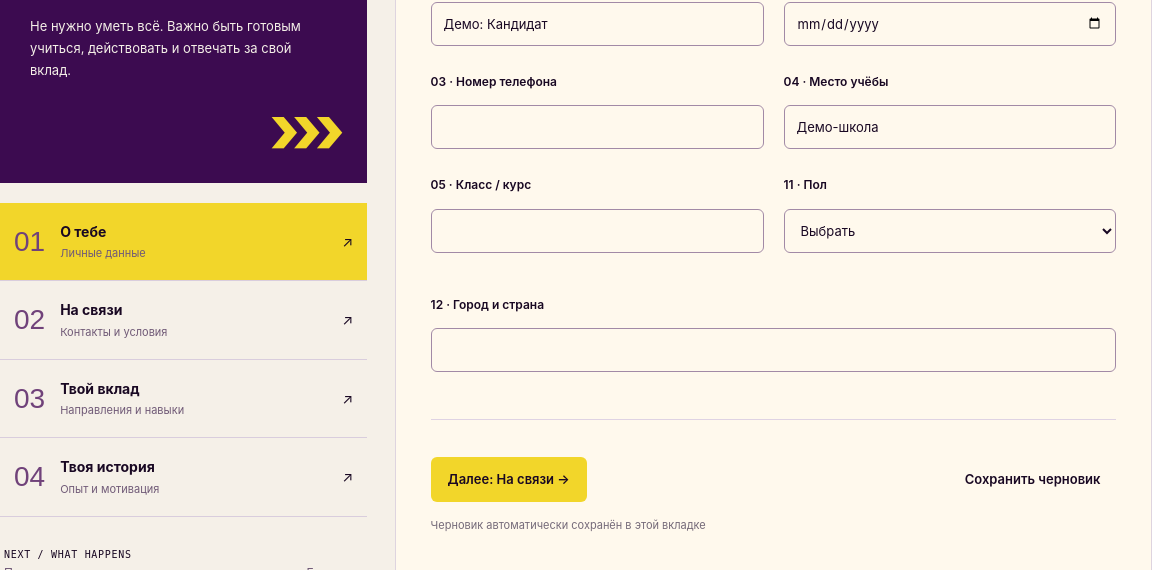
Test case: full application workflow › limits departments to two and clears a removed priority
(page scrolled)
Step 1. Click the button "03 Твой вклад Направления и навыки ↗" → coordinates (100, 388), box x1=0 y1=360 x2=367 y2=438
(page scrolled)
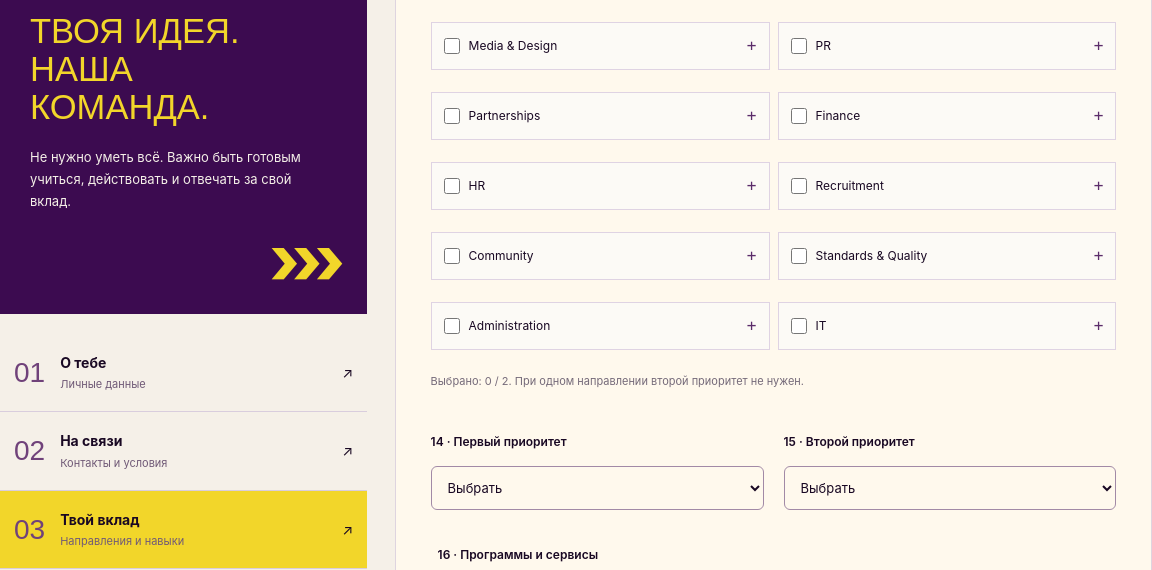
Step 2. Click the checkbox labelled "Media & Design" → coordinates (452, 46), box x1=444 y1=38 x2=460 y2=54
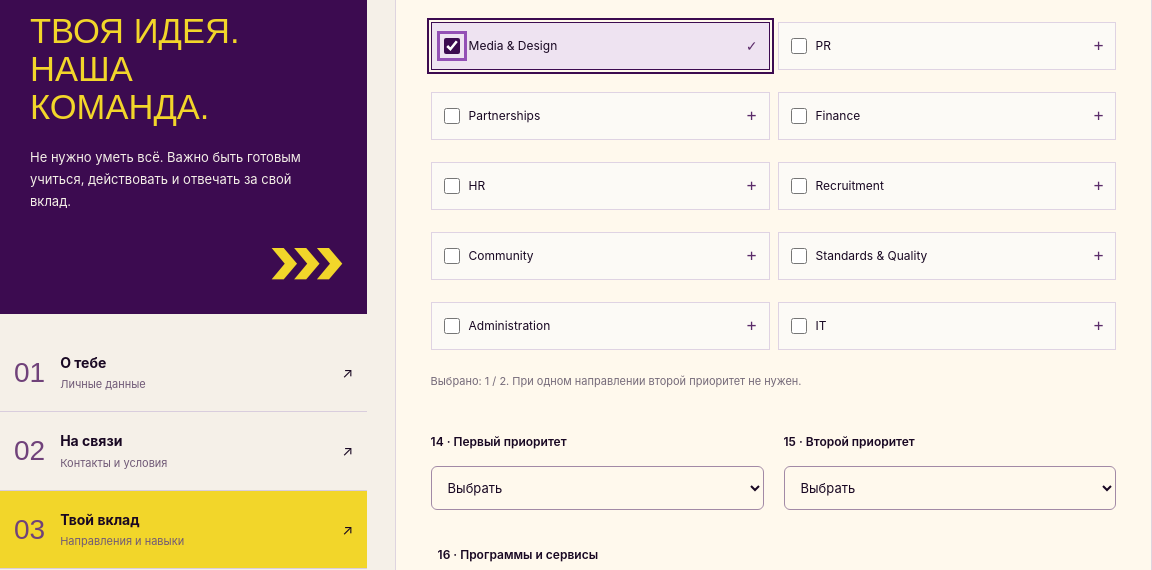
Step 3. Click the checkbox labelled "PR" → coordinates (798, 46), box x1=790 y1=38 x2=806 y2=54
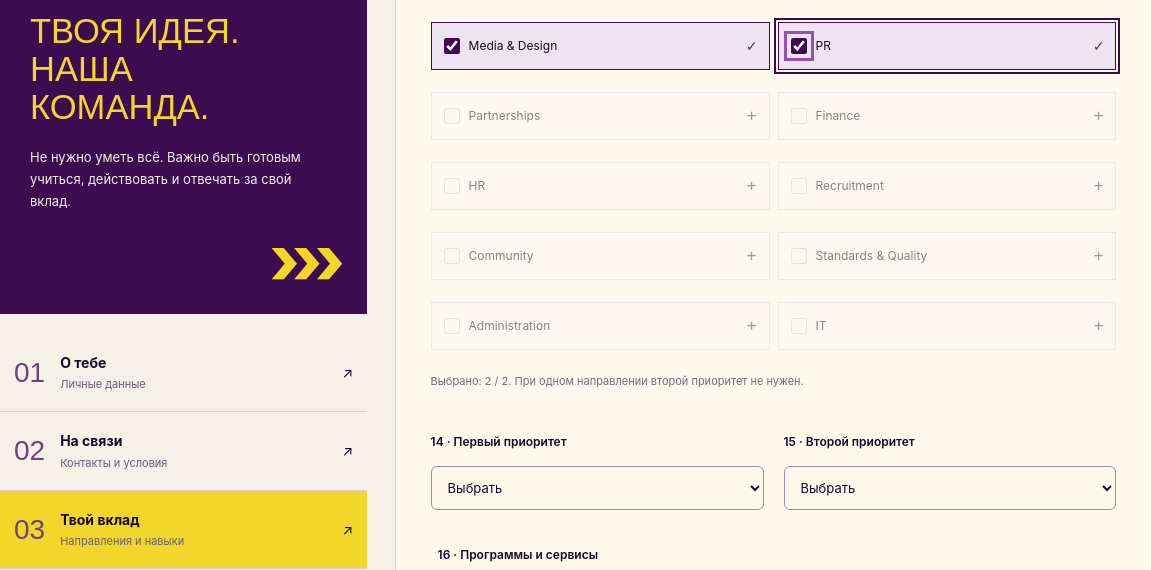
Step 4. Select "Media & Design" in the dropdown labelled "14 · Первый приоритет" → coordinates (597, 488), box x1=431 y1=466 x2=764 y2=510
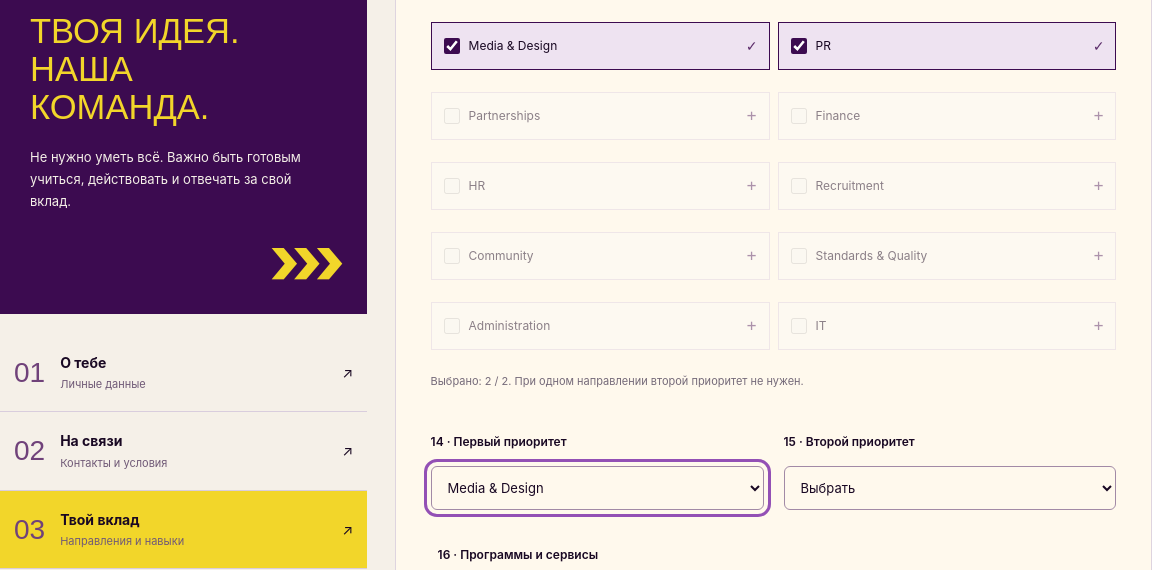
Step 5. Select "PR" in the dropdown labelled "15 · Второй приоритет" → coordinates (950, 488), box x1=784 y1=466 x2=1116 y2=510
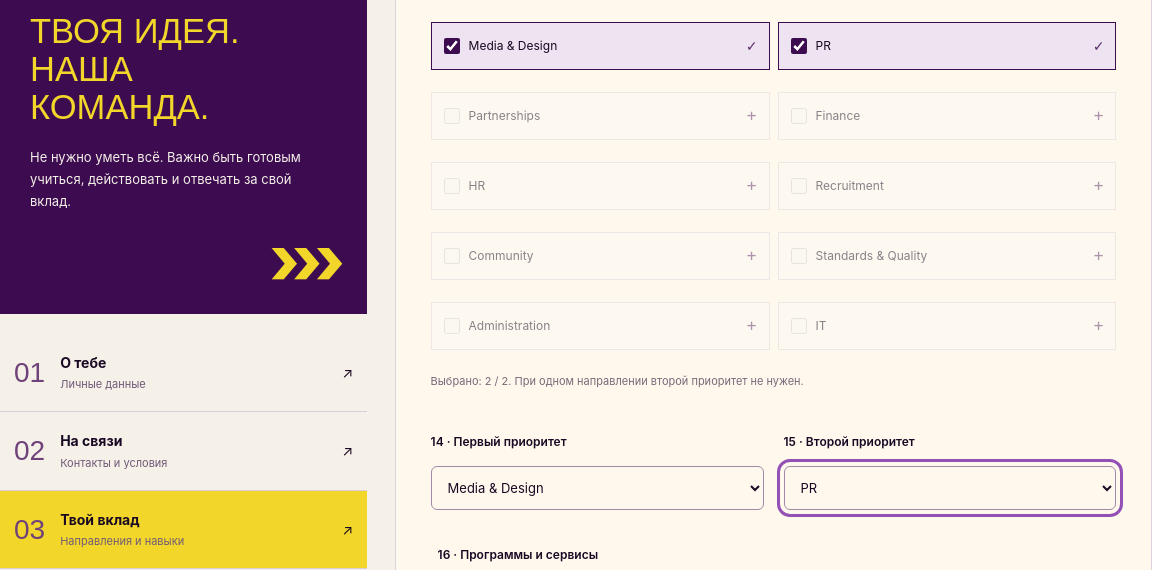
Step 6. Click the checkbox labelled "PR" → coordinates (798, 46), box x1=790 y1=38 x2=806 y2=54
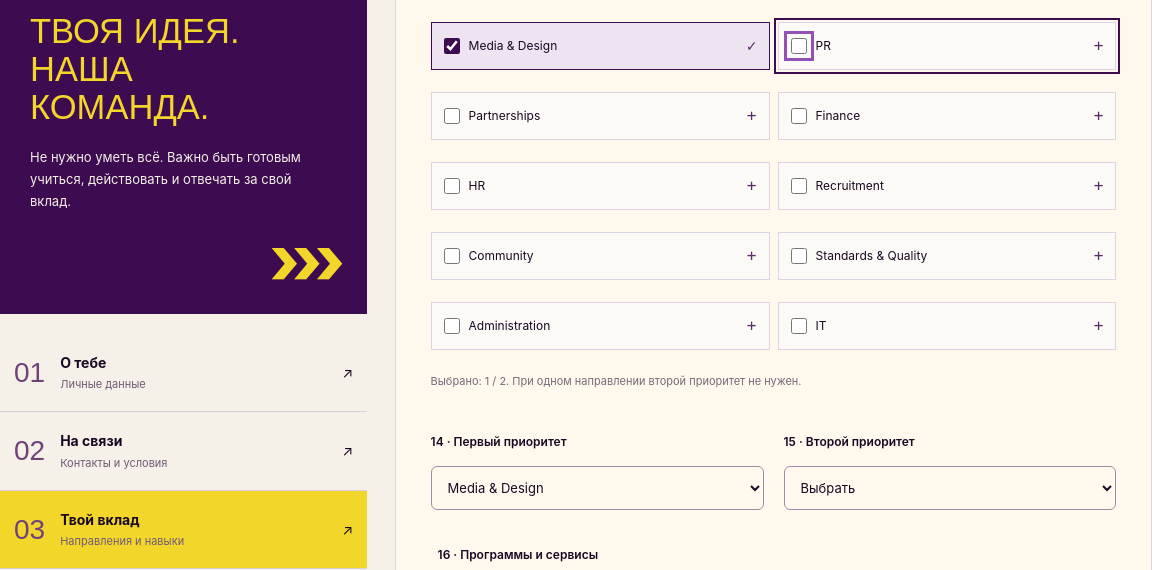
Result: the dropdown labelled "15 · Второй приоритет" is disabled at x1=784 y1=466 x2=1116 y2=510
